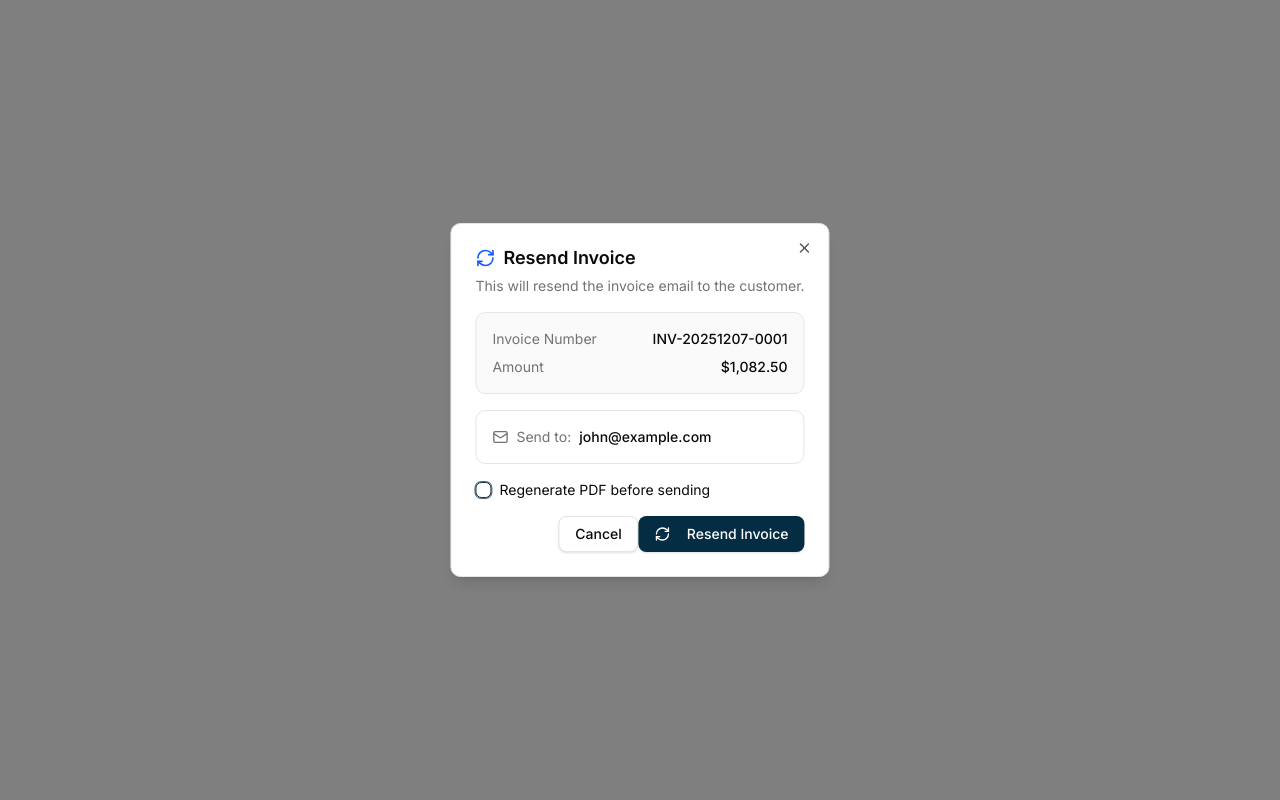
Scenario: SendInvoiceDialog › loading state › disables checkbox during resend
Click the button "Resend Invoice": (722, 534) x1=639 y1=516 x2=805 y2=552
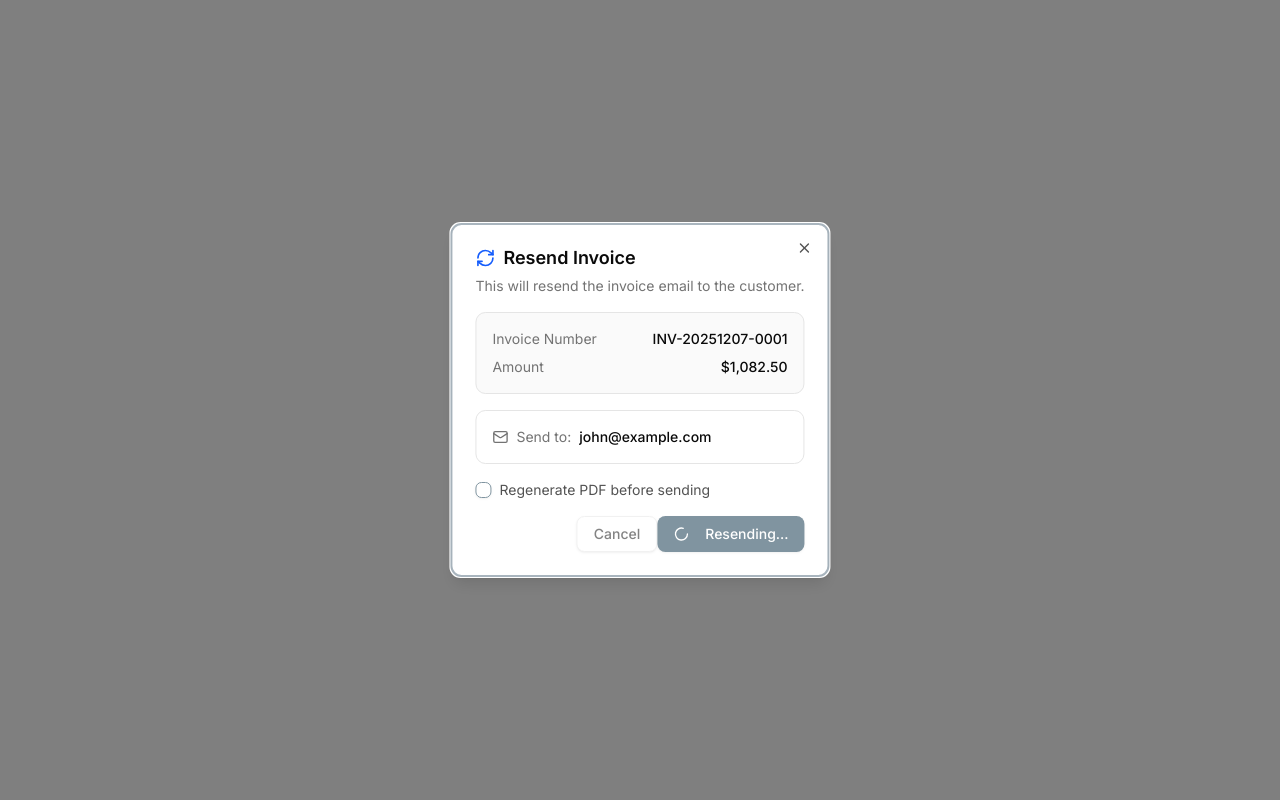
Result: the checkbox is disabled at x1=475 y1=482 x2=491 y2=498
